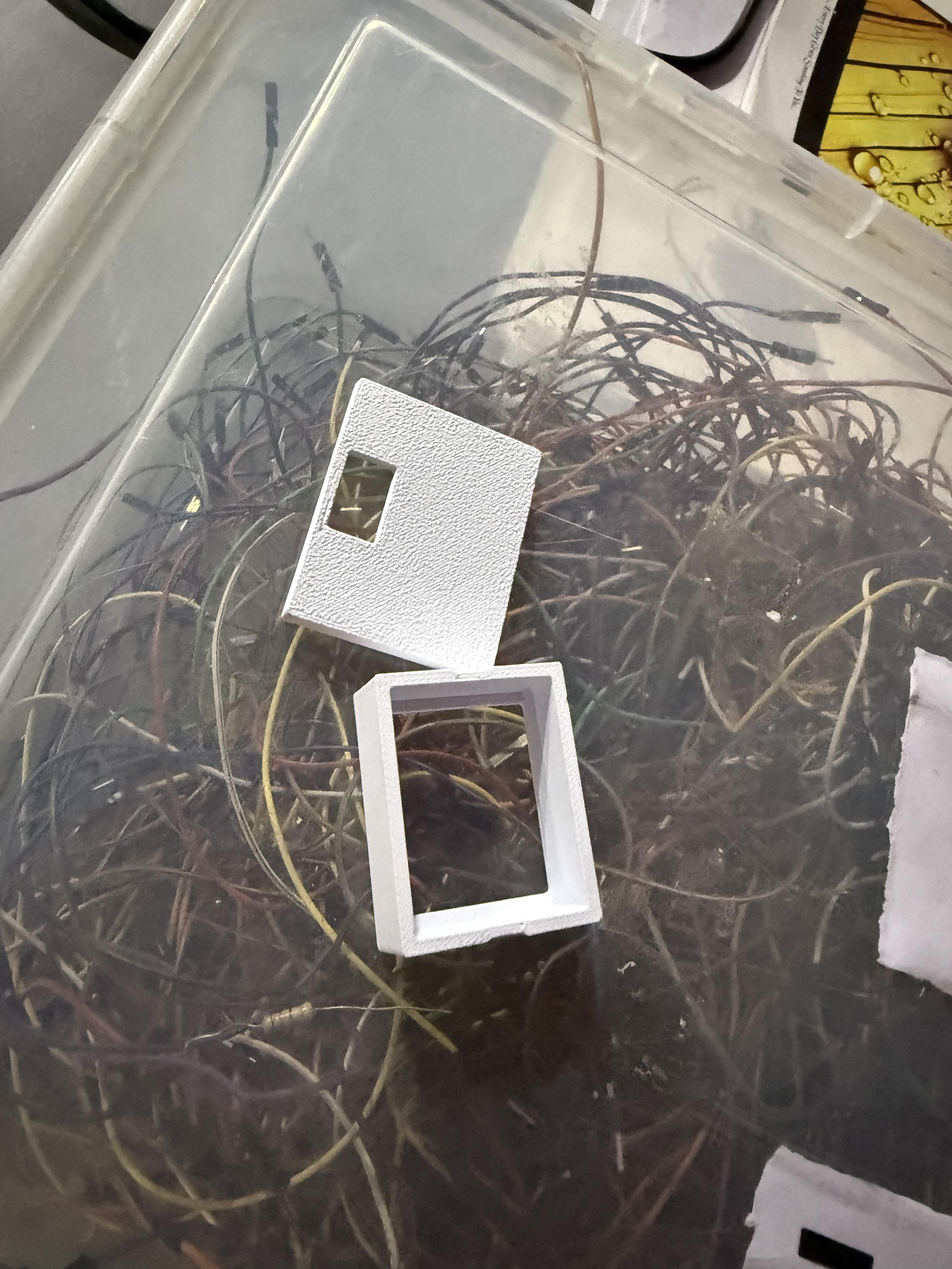enclosure: (280, 377, 542, 677), (354, 661, 603, 959)
